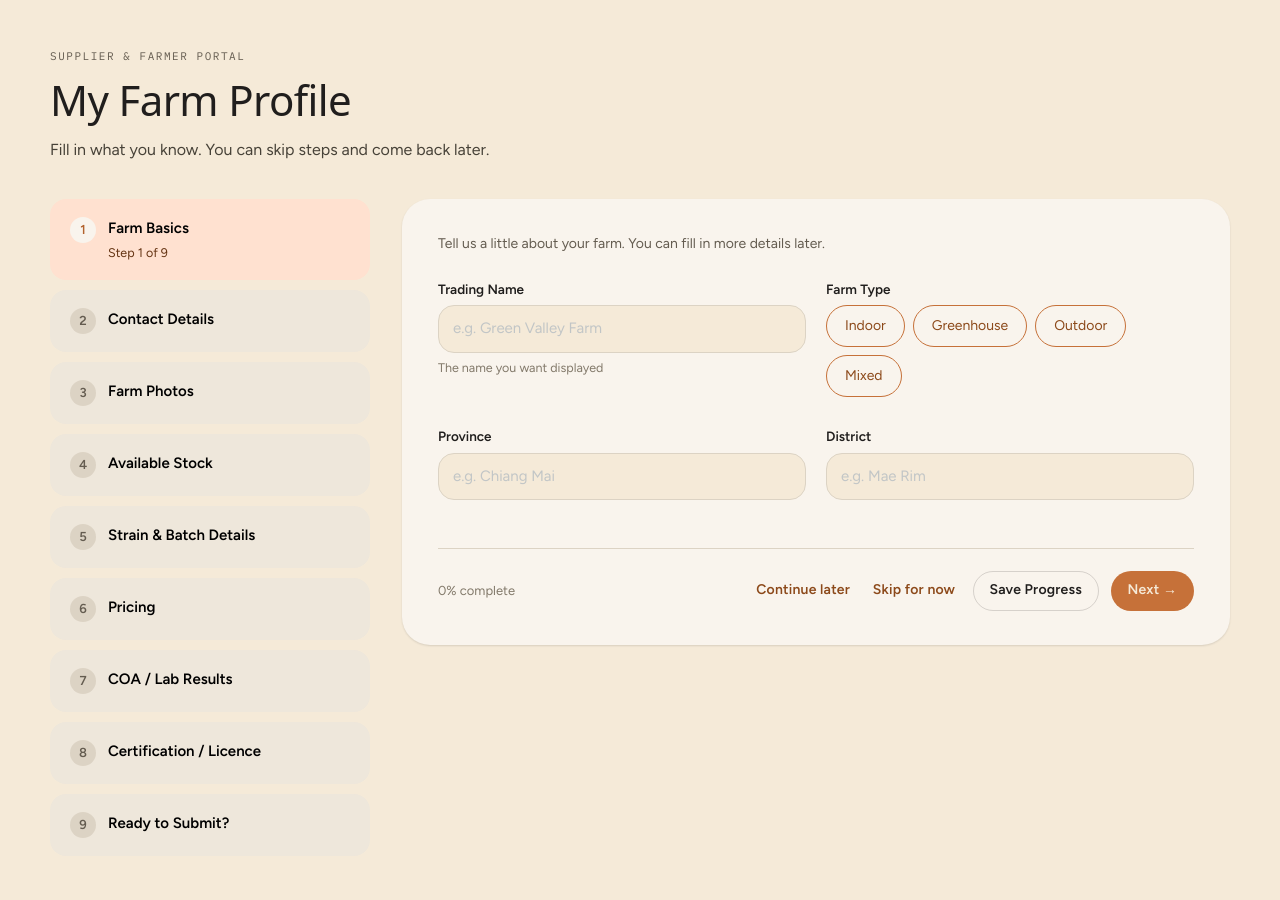
Test: every one of the nine steps still asks the farm something › ends on a review step that offers the submission
The width and height of the screenshot is (1280, 900).
Click the button with class "ob-stage" showing "9 Ready to Submit?": (210, 826) [50, 794, 370, 856]
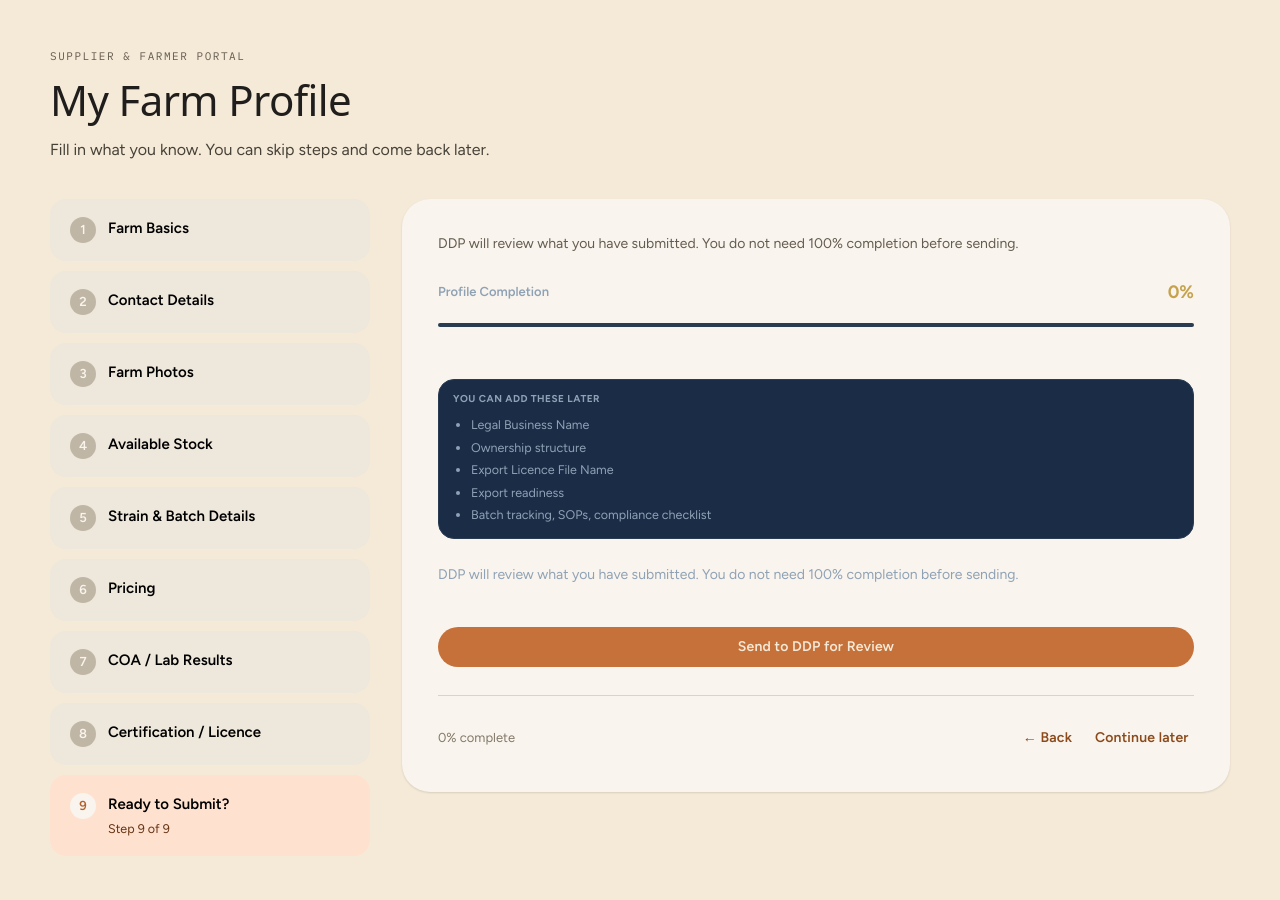
Check: the number of buttons "Send to DDP for Review" is 1, box [438, 627, 1194, 667]
